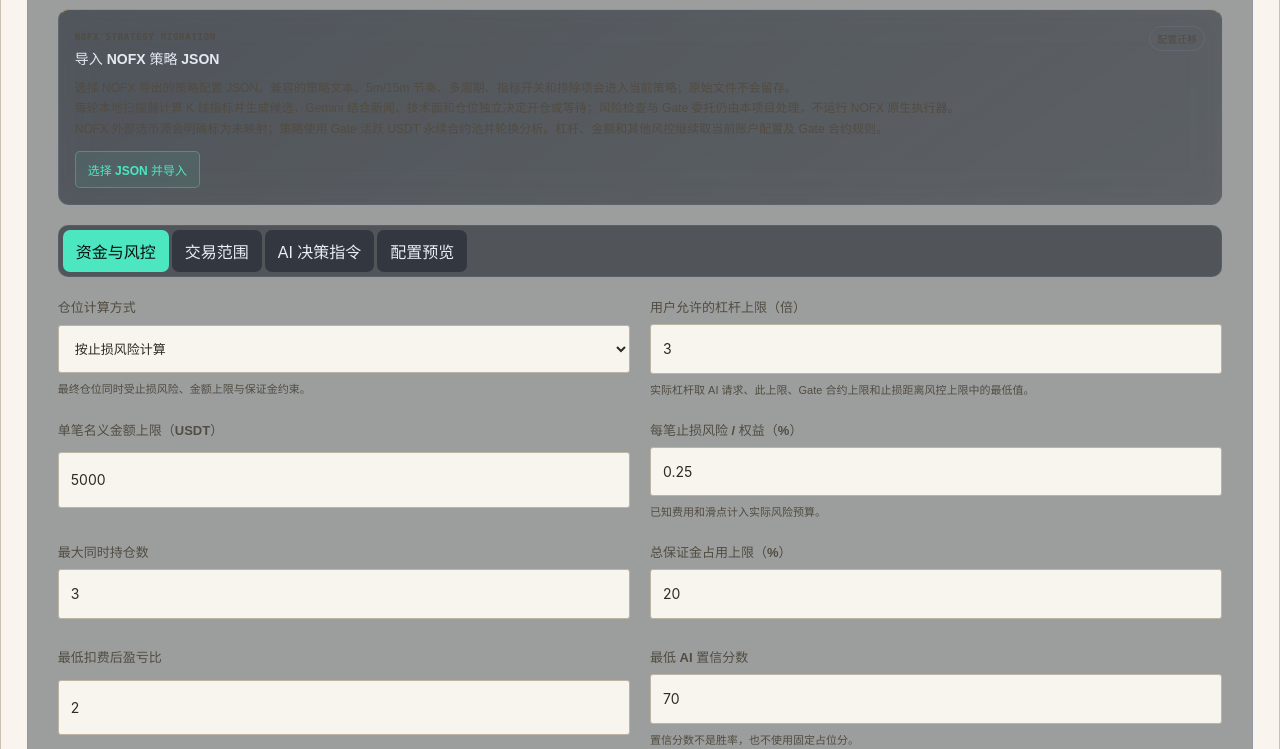
persists notional, leverage and prompt configuration in the selected account revision
(page scrolled)
Select "固定 USDT 名义金额" in the dropdown labelled "仓位计算方式 最终仓位同时受止损风险、金额上限与保证金约束。": (344, 349) [58,325,630,373]
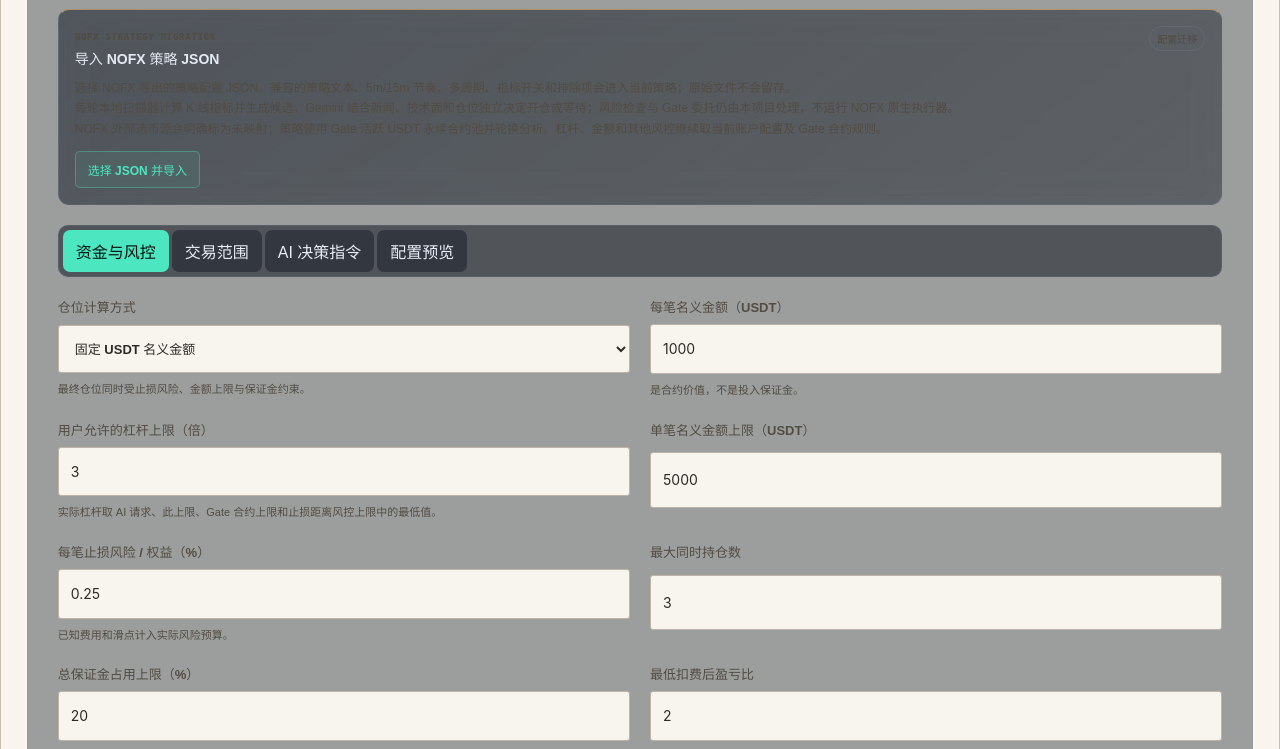
Replace the text in the number field labelled "每笔名义金额（USDT） 是合约价值，不是投入保证金。" with "500": (936, 349) [650,324,1222,374]
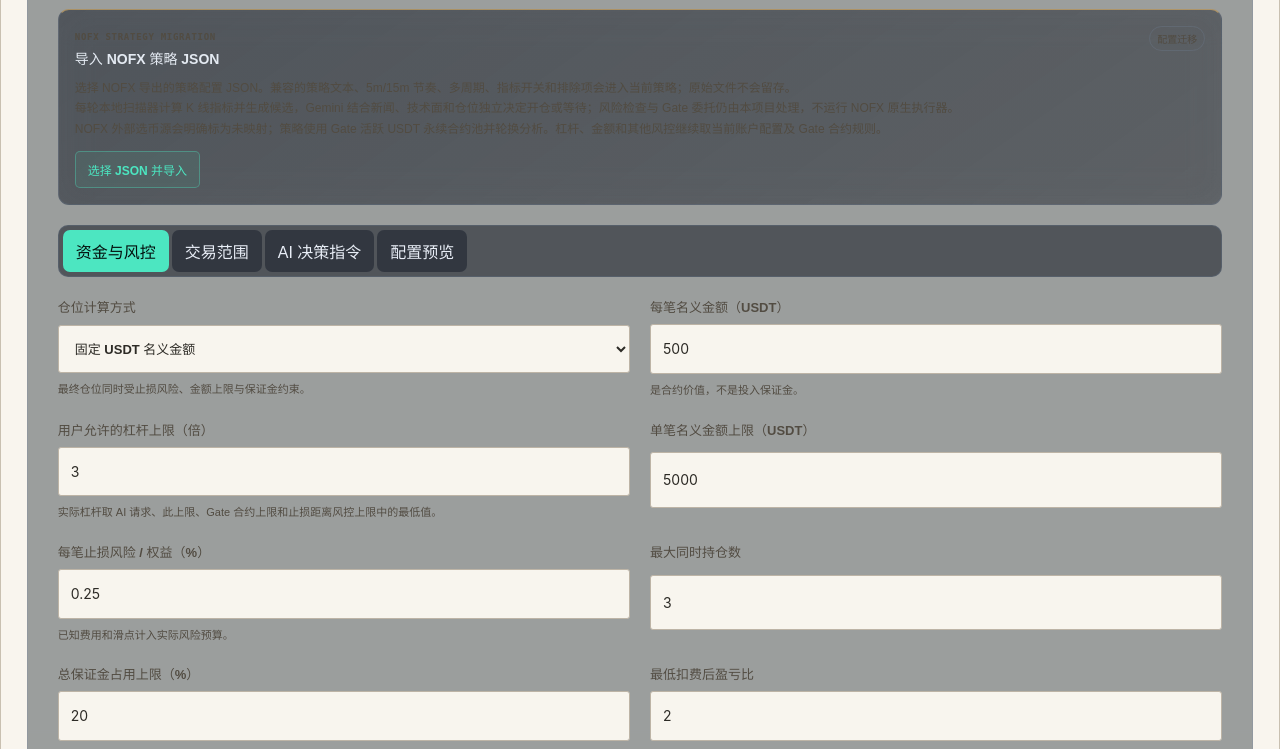
Replace the text in the number field labelled "用户允许的杠杆上限（倍） 实际杠杆取 AI 请求、此上限、Gate 合约上限和止损距离风控上限中的最低值。" with "2": (344, 471) [58,446,630,496]
(page scrolled)
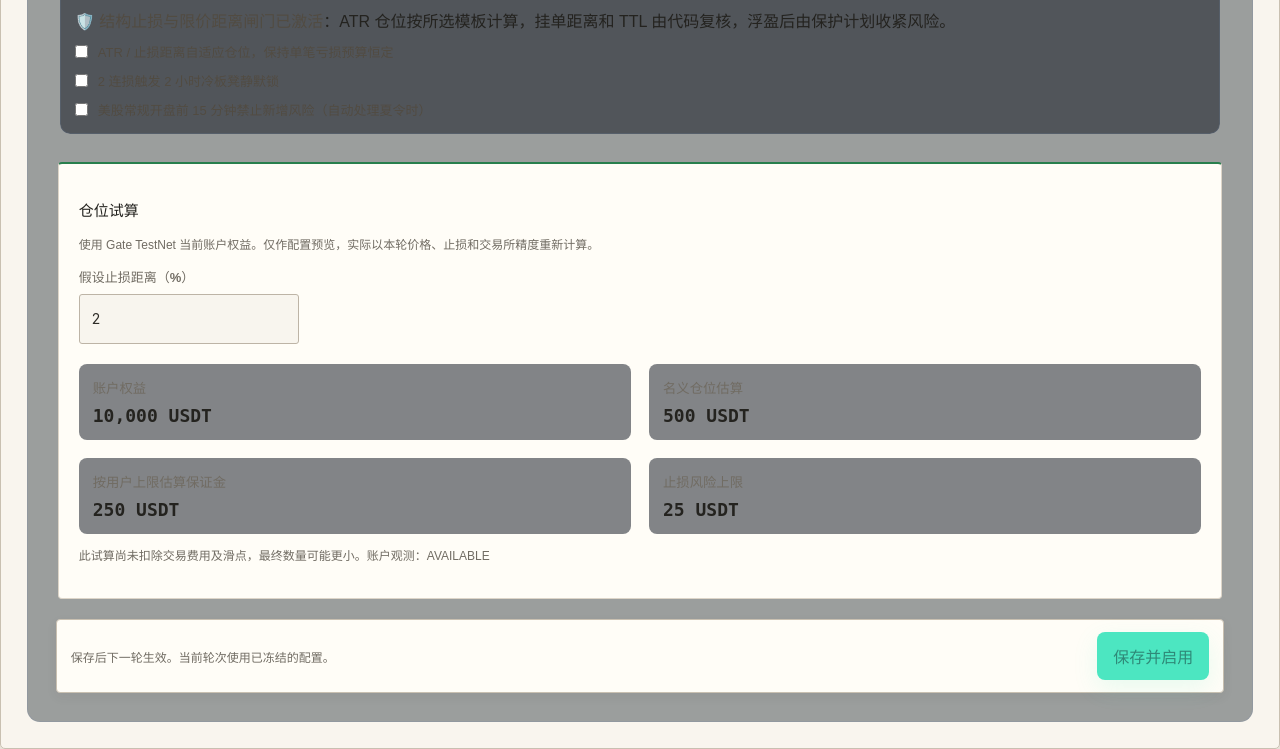
Click the button "保存并启用": (1153, 656) [1097,632,1209,680]
(page scrolled)
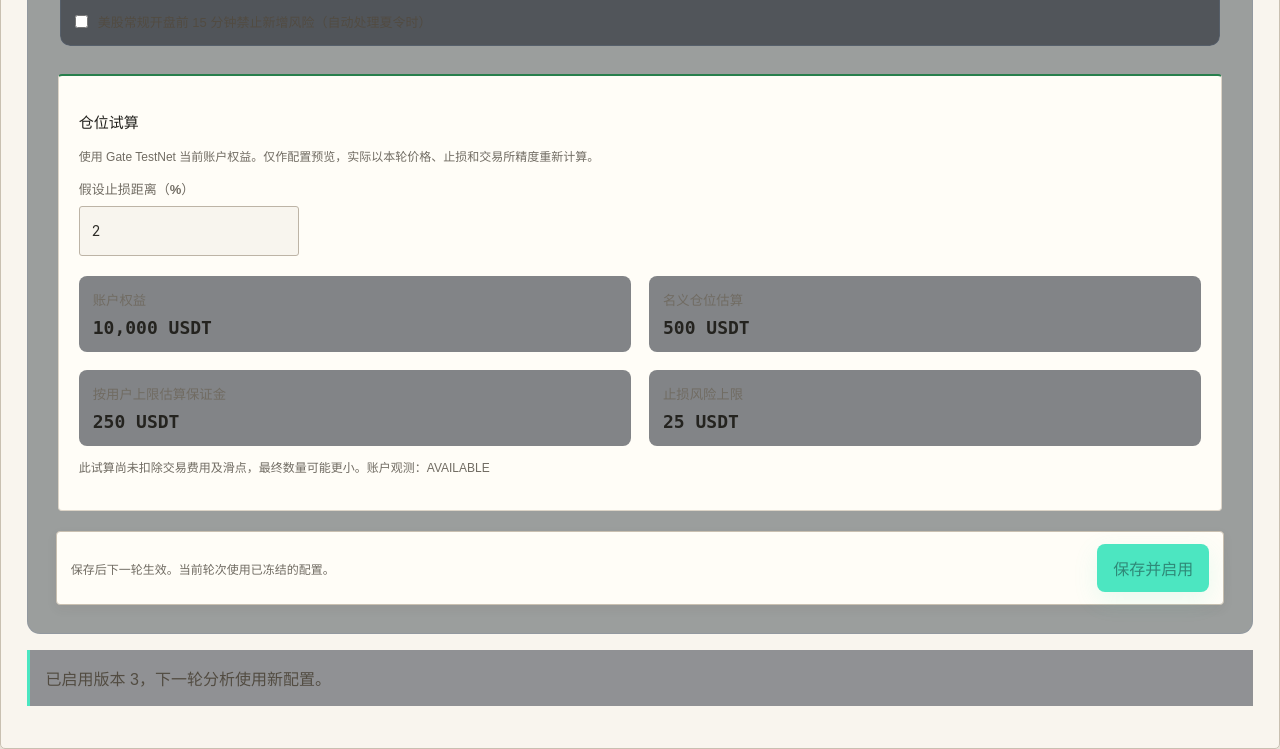
Result: the text "已启用版本 3，下一轮分析使用新配置。" is shown at [27,650,1253,706]
